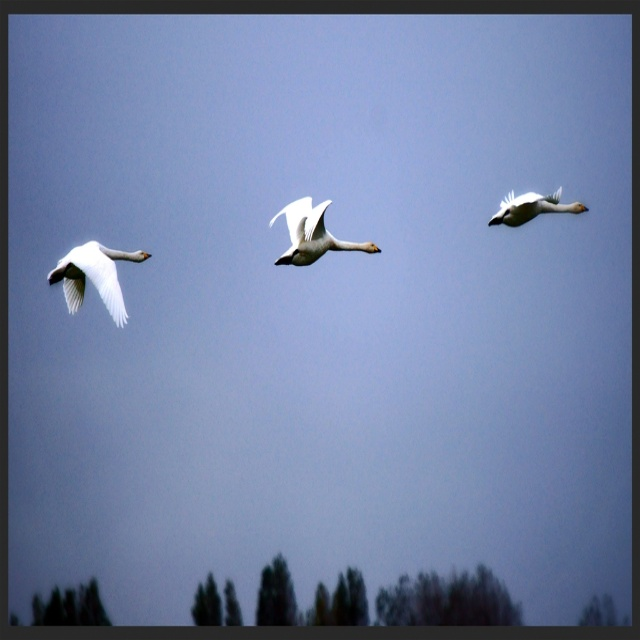Goose: (266, 194, 387, 282), (49, 245, 152, 330), (491, 189, 590, 238)
